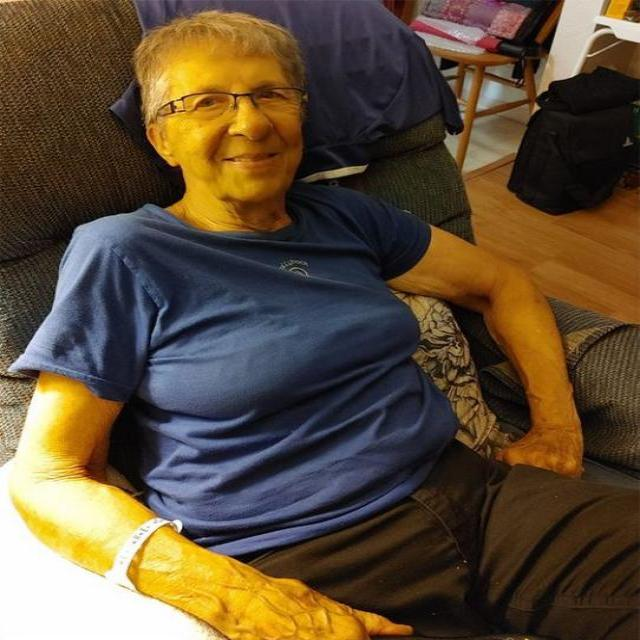glasses: (156, 86, 312, 114)
